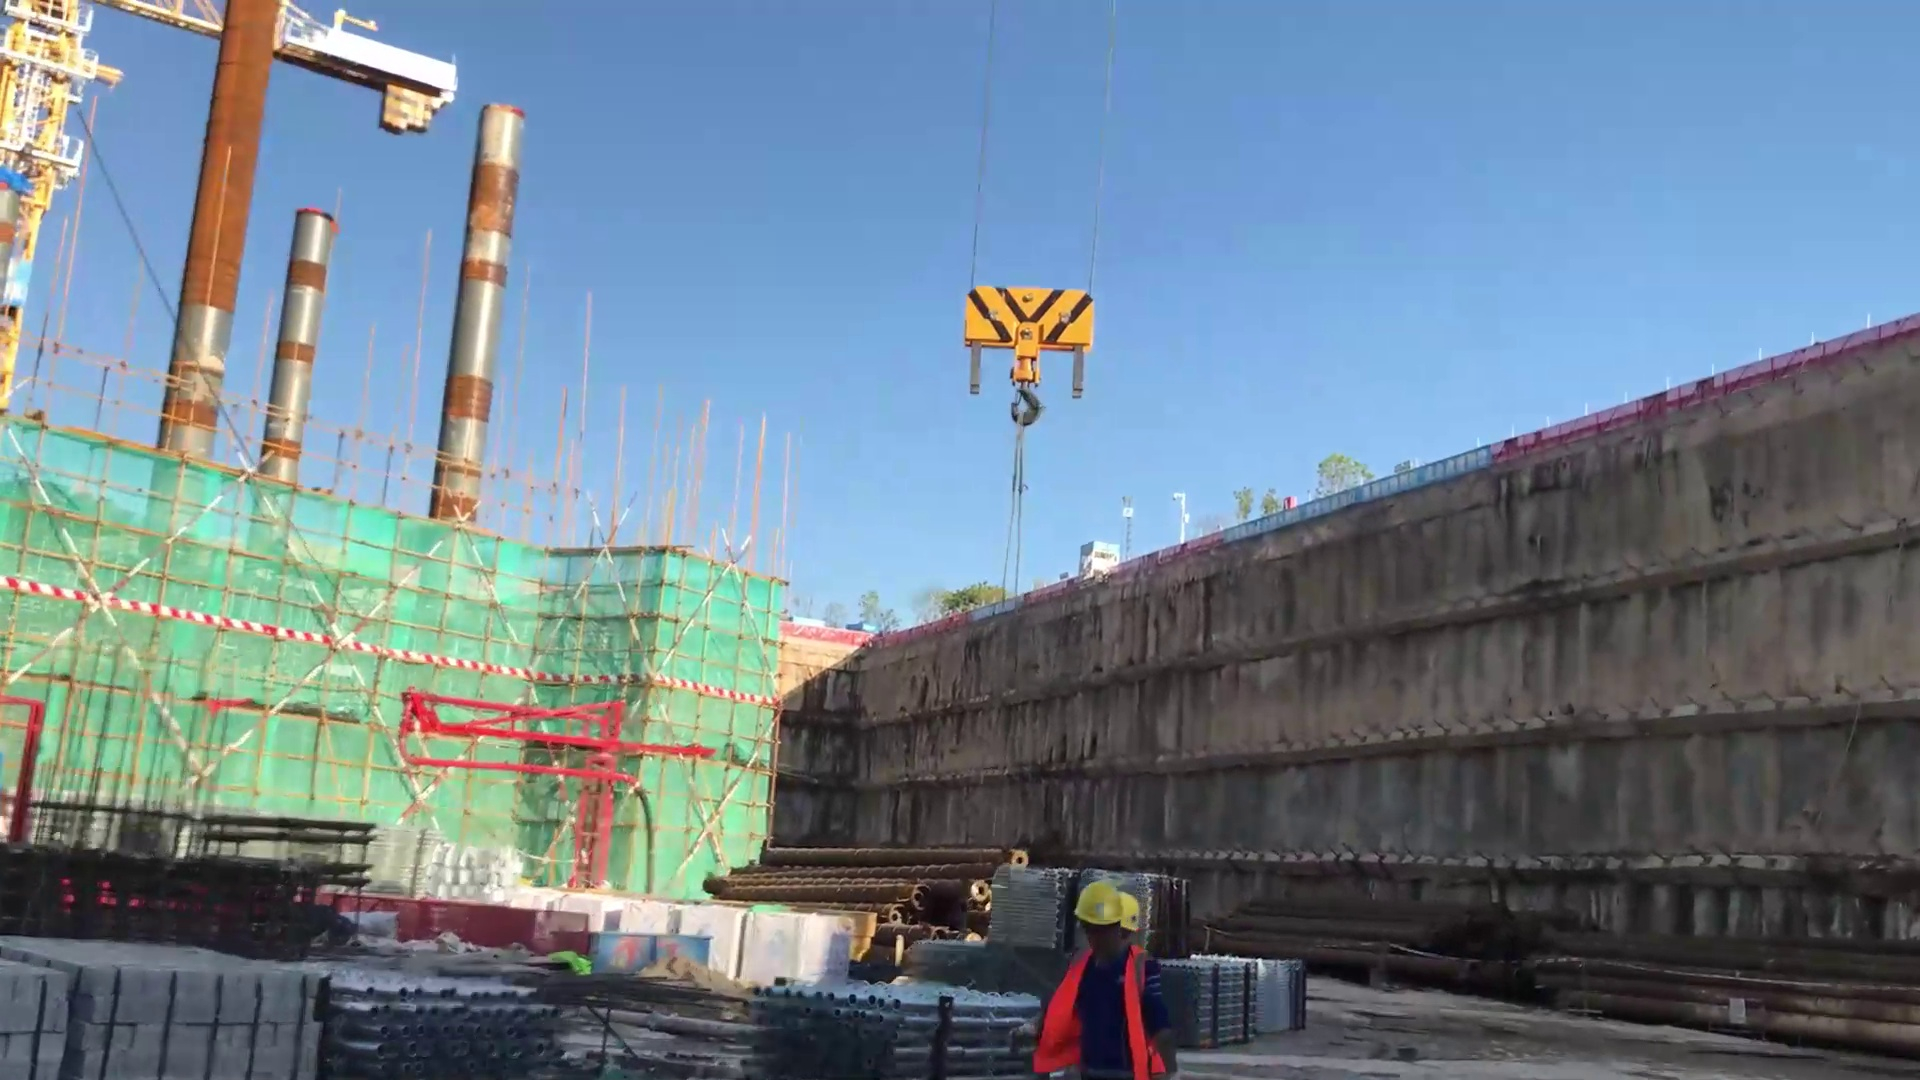helmet: (1069, 884, 1158, 945)
hook: (963, 280, 1093, 427)
scaffold: (746, 947, 1027, 1080), (334, 964, 588, 1079)
slogan: (1209, 422, 1520, 558)
vest: (1027, 927, 1174, 1080)
